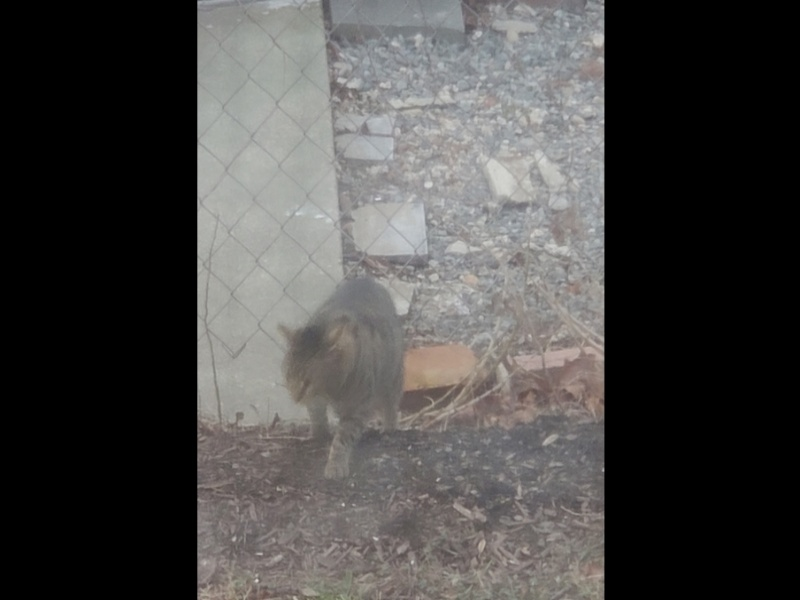cat: (277, 273, 409, 484)
